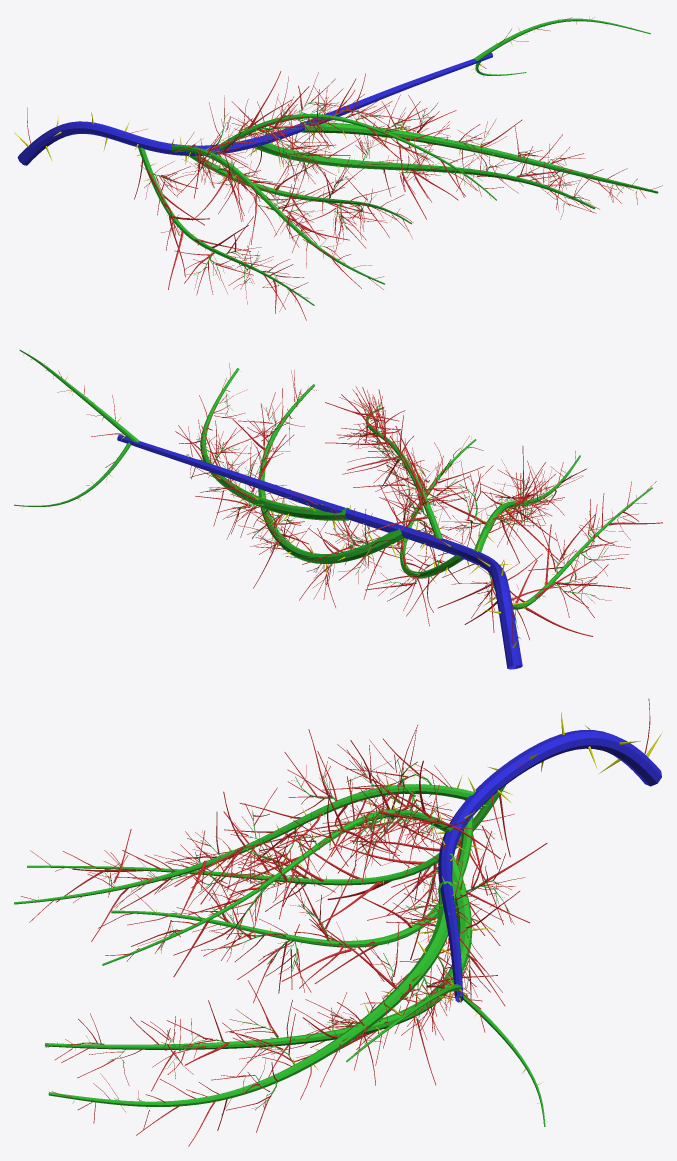
Rendered from lpy_ufo_00000_budsites.obj.
The picture shows the model from 3 angles, top to bottom: view 1: azimuth 30°, elevation 25°; view 2: azimuth 150°, elevation 25°; view 3: azimuth 270°, elevation 25°; orthographic projection. The views are drawn at different scales.
Size of the model in its own units: 2.2 by 0.7298 by 1.51.
